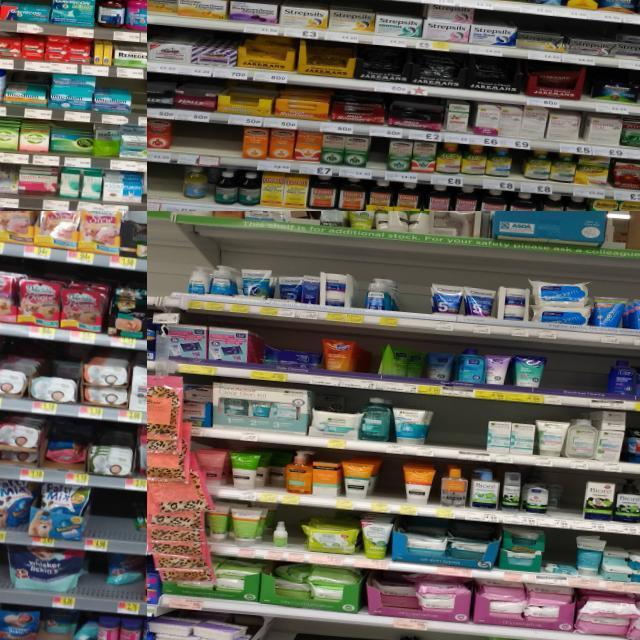empty: (544, 356, 608, 409), (172, 121, 242, 168), (432, 406, 488, 460), (88, 488, 132, 554), (147, 163, 180, 211), (400, 276, 430, 328), (377, 462, 402, 514), (84, 554, 106, 611), (562, 477, 585, 529), (286, 512, 306, 562), (368, 137, 389, 180), (362, 346, 379, 389), (147, 252, 156, 304), (132, 98, 147, 126)
